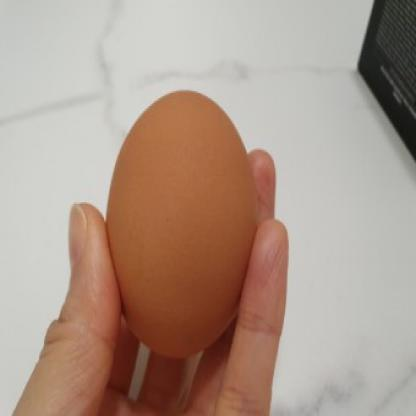egg: (105, 85, 253, 356)
